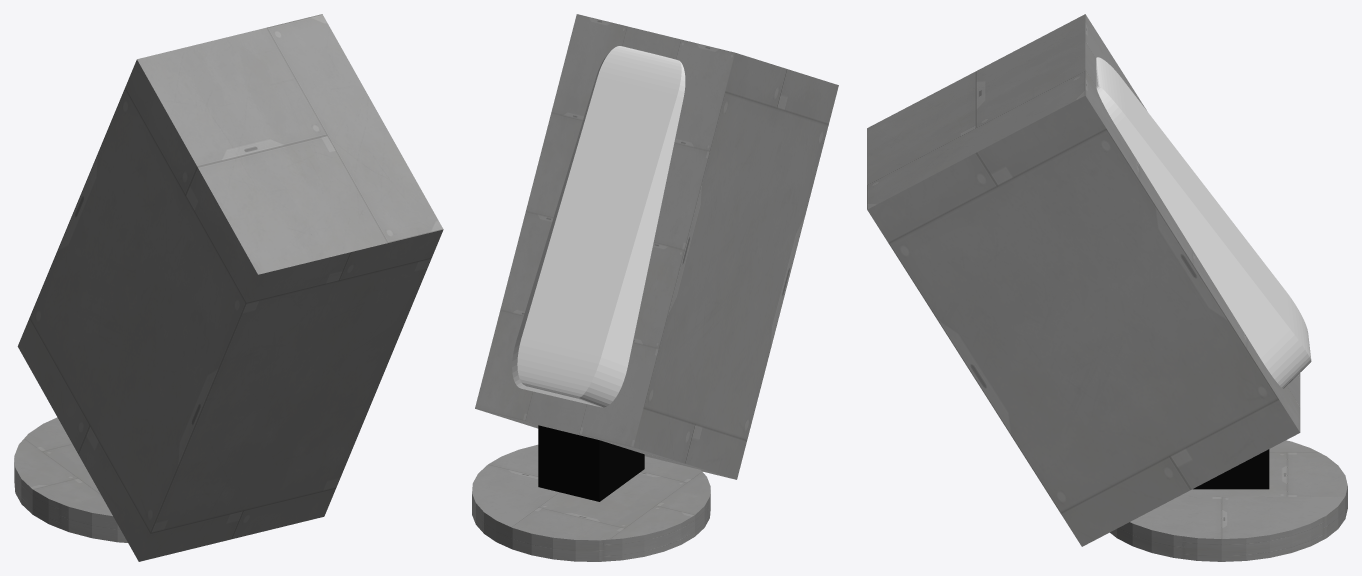
Rendered from StatusChamber.fbx.
3 views of the same model, side by side, from view 1: azimuth 30°, elevation 25°; view 2: azimuth 150°, elevation 25°; view 3: azimuth 270°, elevation 25° (orthographic). The views are drawn at different scales.
Parts seen in each view (by area): view 1: Cube.002, Cylinder; view 2: Cube.002, Cube, Cylinder, Cube.001; view 3: Cube.002, Cube, Cylinder, Cube.001.
Part boxes in pixels (box(x1,y1,x2,y2)): Cube.002: box(17, 14, 443, 561); Cylinder: box(14, 417, 127, 542); Cube.002: box(475, 14, 838, 479); Cube: box(512, 46, 685, 407); Cylinder: box(472, 444, 710, 561); Cube.001: box(538, 425, 644, 501); Cube.002: box(867, 14, 1300, 546); Cube: box(1096, 57, 1311, 388); Cylinder: box(1110, 440, 1347, 561); Cube.001: box(1193, 449, 1269, 489).
Bounding box in the file's own units: 200 × 381 × 397.
